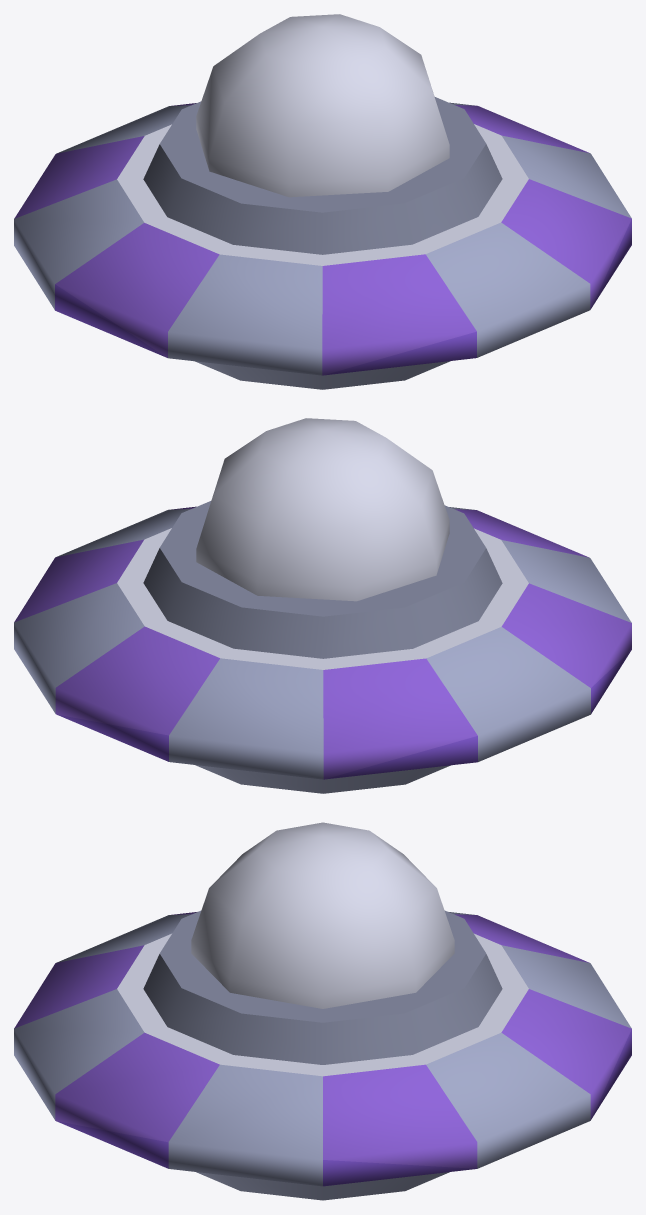
3 renders of one model, top to bottom at view 1: azimuth 30°, elevation 25°; view 2: azimuth 150°, elevation 25°; view 3: azimuth 270°, elevation 25°, orthographic.
Visible parts, largest first — view 1: enemy-ufo-c; view 2: enemy-ufo-c; view 3: enemy-ufo-c.
Boxes of the visible parts, x1=… form: enemy-ufo-c: x1=14, y1=14, x2=631, y2=389; enemy-ufo-c: x1=14, y1=418, x2=631, y2=793; enemy-ufo-c: x1=14, y1=822, x2=631, y2=1200.
Bounding box in the file's own units: 9.94 × 5.2 × 9.9.
